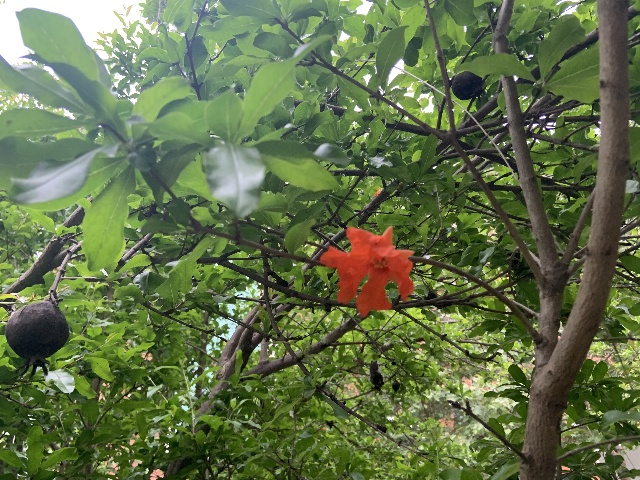flower: (319, 224, 414, 316)
